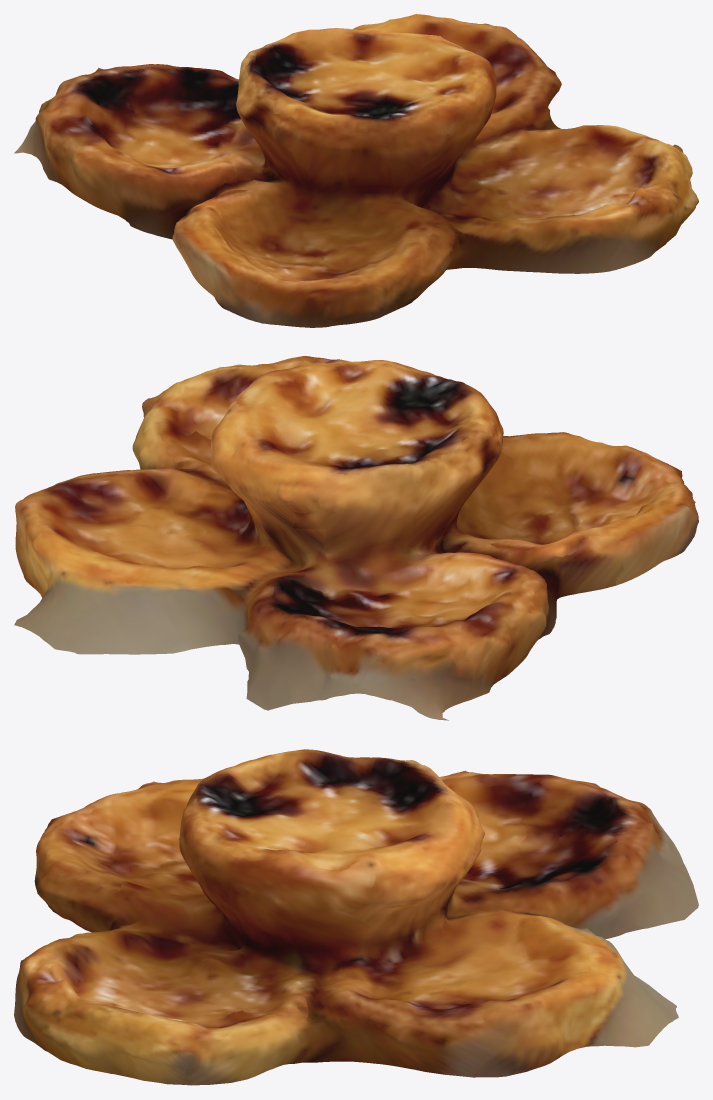
File: portuguese_egg_tartpasteis_de_nata_scaniverse.glb
3 renders of one model, top to bottom at view 1: azimuth 30°, elevation 25°; view 2: azimuth 150°, elevation 25°; view 3: azimuth 270°, elevation 25°, orthographic. The views are drawn at different scales.
Parts seen in each view (by area): view 1: mesh_main_0; view 2: mesh_main_0; view 3: mesh_main_0.
Boxes of the visible parts, x1=… form: mesh_main_0: x1=14, y1=14, x2=698, y2=327; mesh_main_0: x1=14, y1=356, x2=698, y2=720; mesh_main_0: x1=14, y1=749, x2=698, y2=1085.
Bounding box in the file's own units: 0.1394 × 0.0359 × 0.1505.
Materials: 1 (1 with a texture image).
